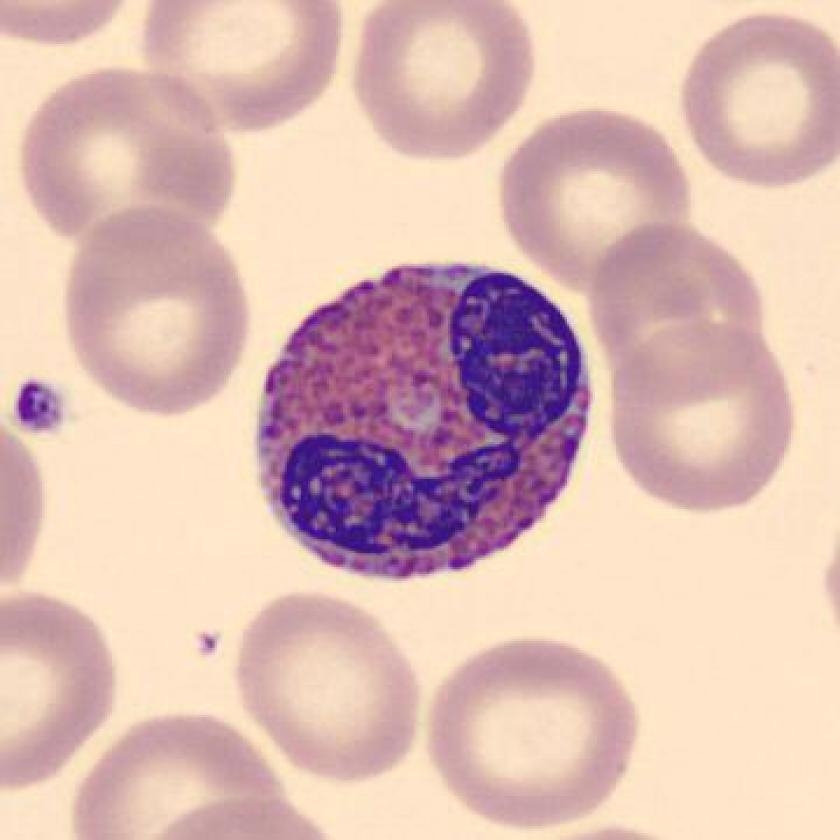eosinophil: (241, 237, 603, 600)
